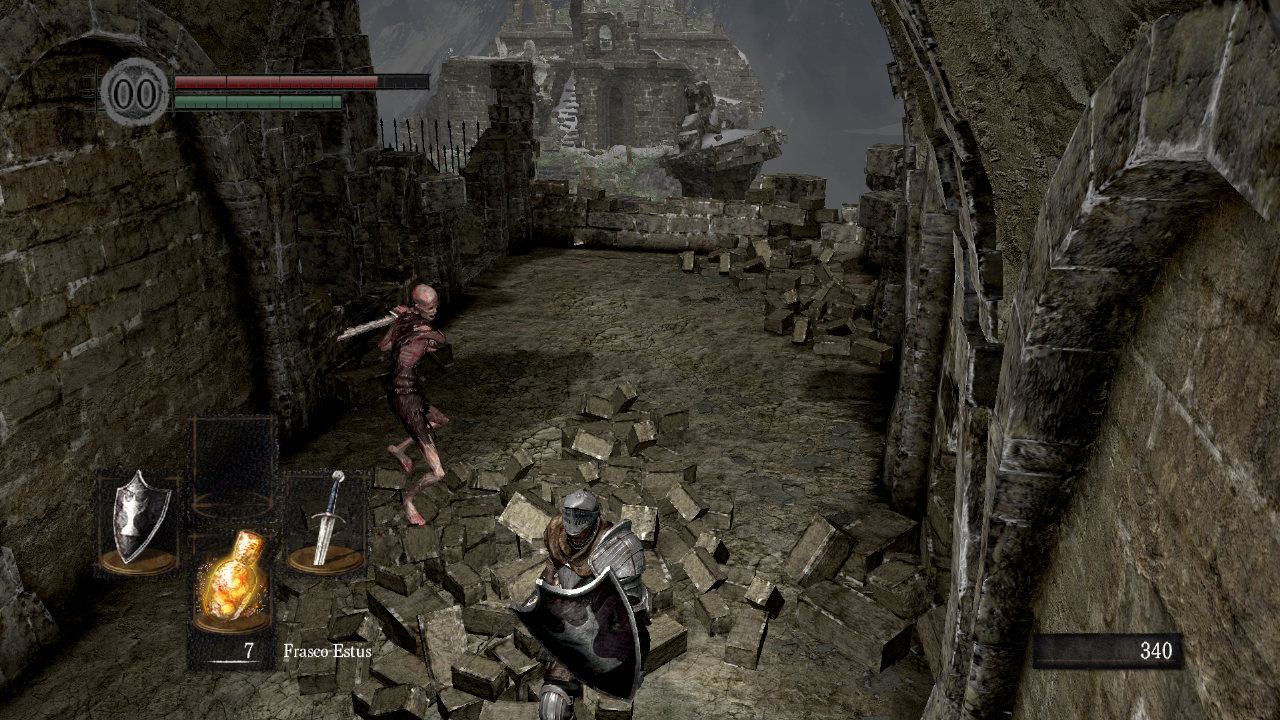hollow: (336, 283, 451, 526)
player: (466, 488, 653, 720)
